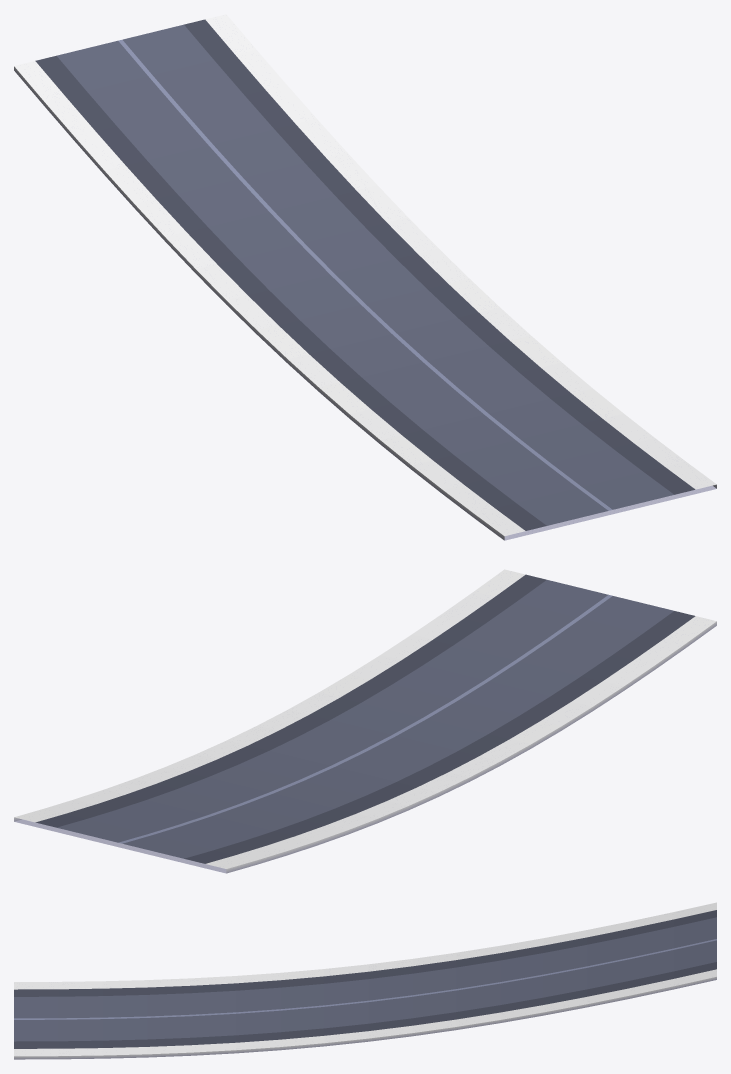
Rendered from road-Straight-Flat-BiSlopeUp-Up2-Center-Size4.glb.
The picture shows the model from 3 angles, top to bottom: view 1: azimuth 30°, elevation 25°; view 2: azimuth 150°, elevation 25°; view 3: azimuth 270°, elevation 25°; orthographic projection. The views are drawn at different scales.
Visible parts, largest first — view 1: road-Straight-Flat-BiSlopeUp-Up2-Center-Size4; view 2: road-Straight-Flat-BiSlopeUp-Up2-Center-Size4; view 3: road-Straight-Flat-BiSlopeUp-Up2-Center-Size4.
Boxes of the visible parts, box(x1,y1,x2,y2) form: road-Straight-Flat-BiSlopeUp-Up2-Center-Size4: box(14, 14, 716, 540); road-Straight-Flat-BiSlopeUp-Up2-Center-Size4: box(14, 569, 716, 873); road-Straight-Flat-BiSlopeUp-Up2-Center-Size4: box(14, 902, 716, 1059).
Bounding box in the file's own units: 1 × 0.52 × 4.
Materials: 1 (1 with a texture image).
